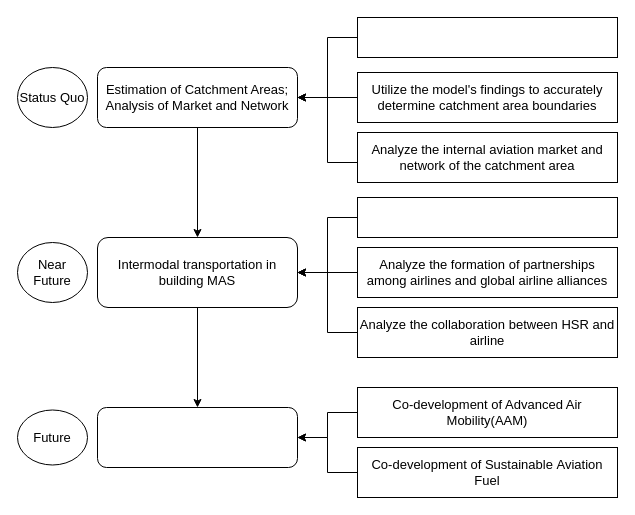
This 635x515 diagram has some shape labels left out. The box of each missing label's shape, as (x1, y1, x2, y2) in pixels:
Advanced Aviation Network: (96, 406, 298, 468)
Analyze strategies to optimize benefits for the Hong Kong aviation industry: (356, 196, 618, 238)
Develop an aviation network analysis model: (356, 16, 618, 58)
